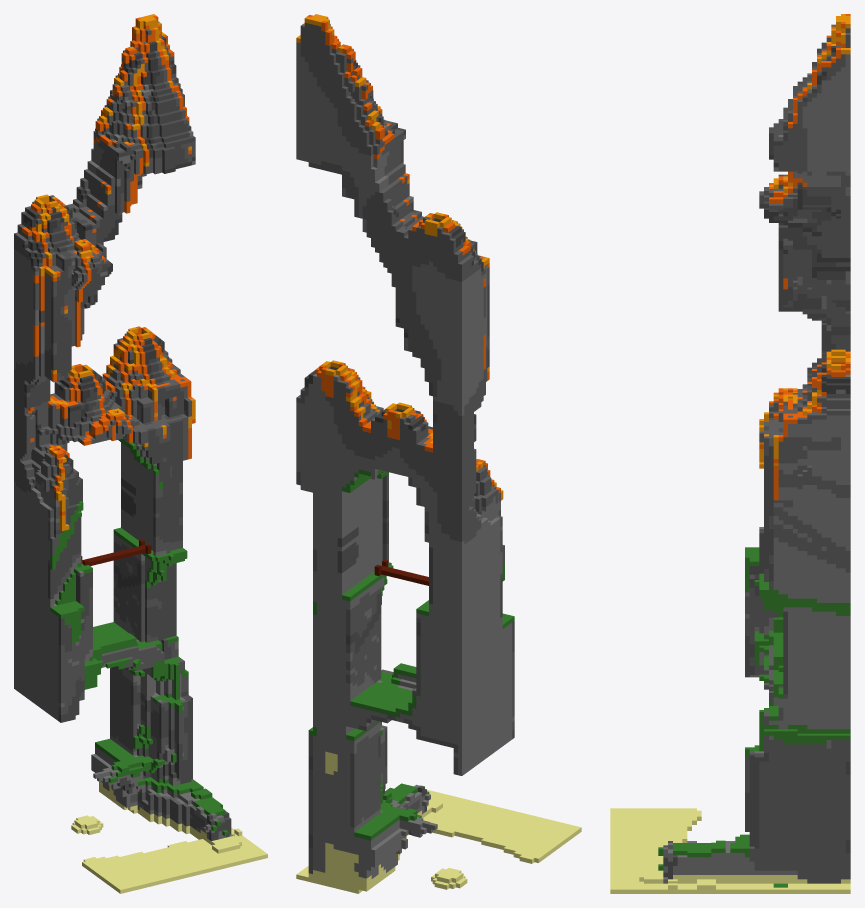
The model's file is beach.obj.
3 renders of one model, left to right at view 1: azimuth 30°, elevation 25°; view 2: azimuth 150°, elevation 25°; view 3: azimuth 270°, elevation 25°, orthographic. The views are drawn at different scales.
Bounding box in the file's own units: 4 × 19.9 × 5.
1 material, 1 textured.
